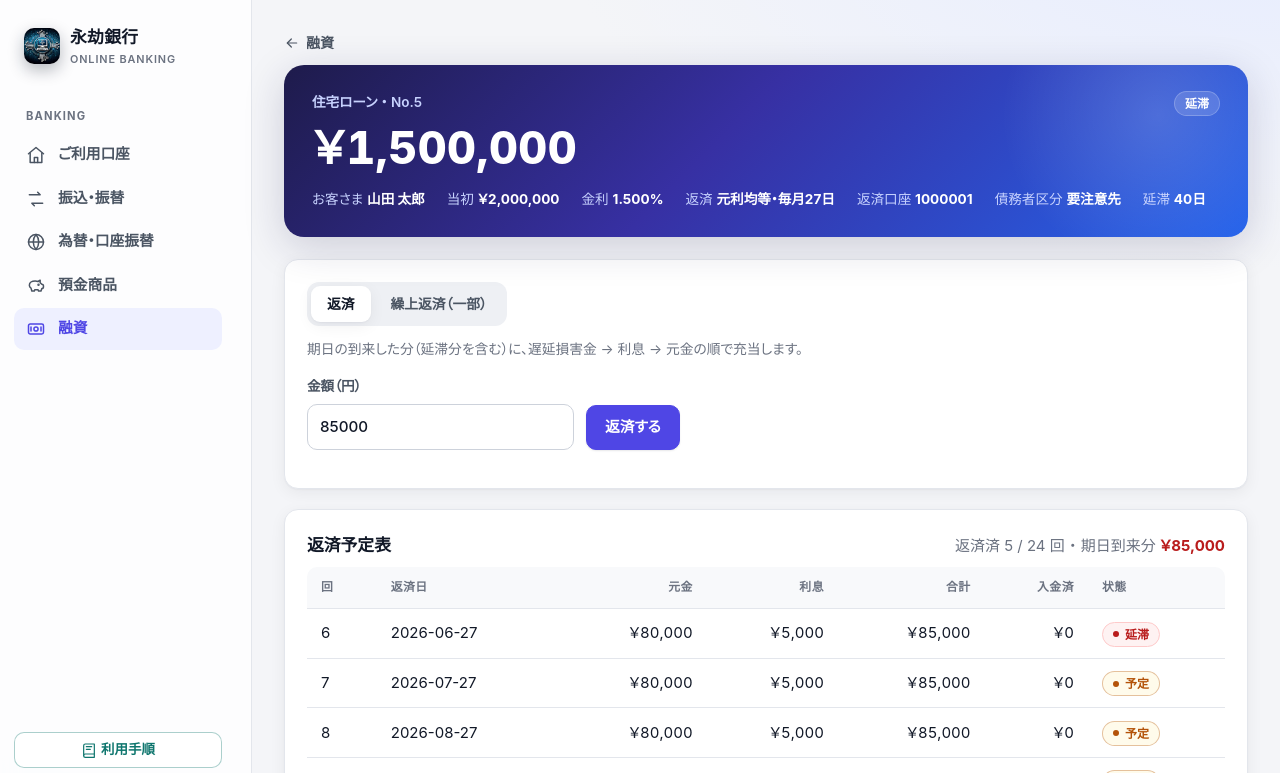
Scenario: LoanPage › 返済：期日到来分を初期値にし、成功メッセージを出す
Expected: the field labelled "金額（円）" holds "85000", [307, 404, 574, 450]
Click the button "返済する" at x=633, y=427, box [586, 405, 680, 450]
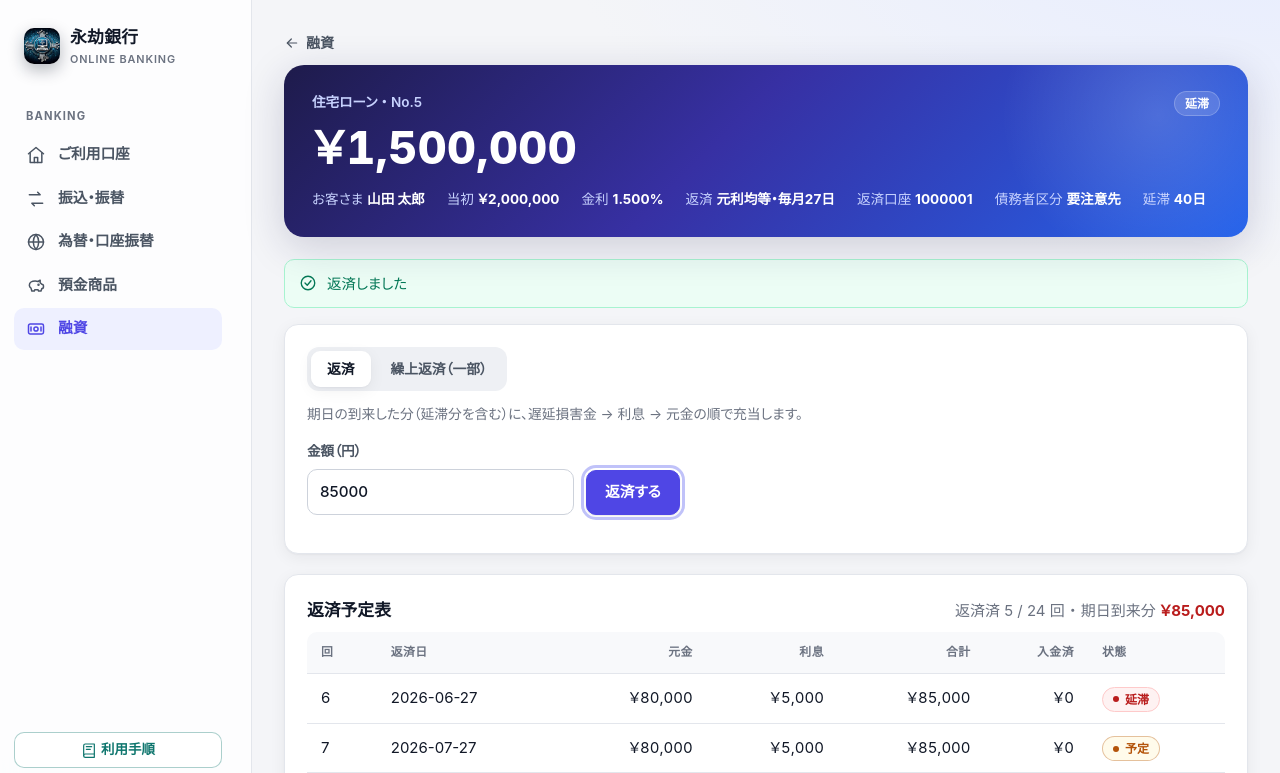
Expected: the text "返済しました" is shown, [327, 272, 407, 295]
